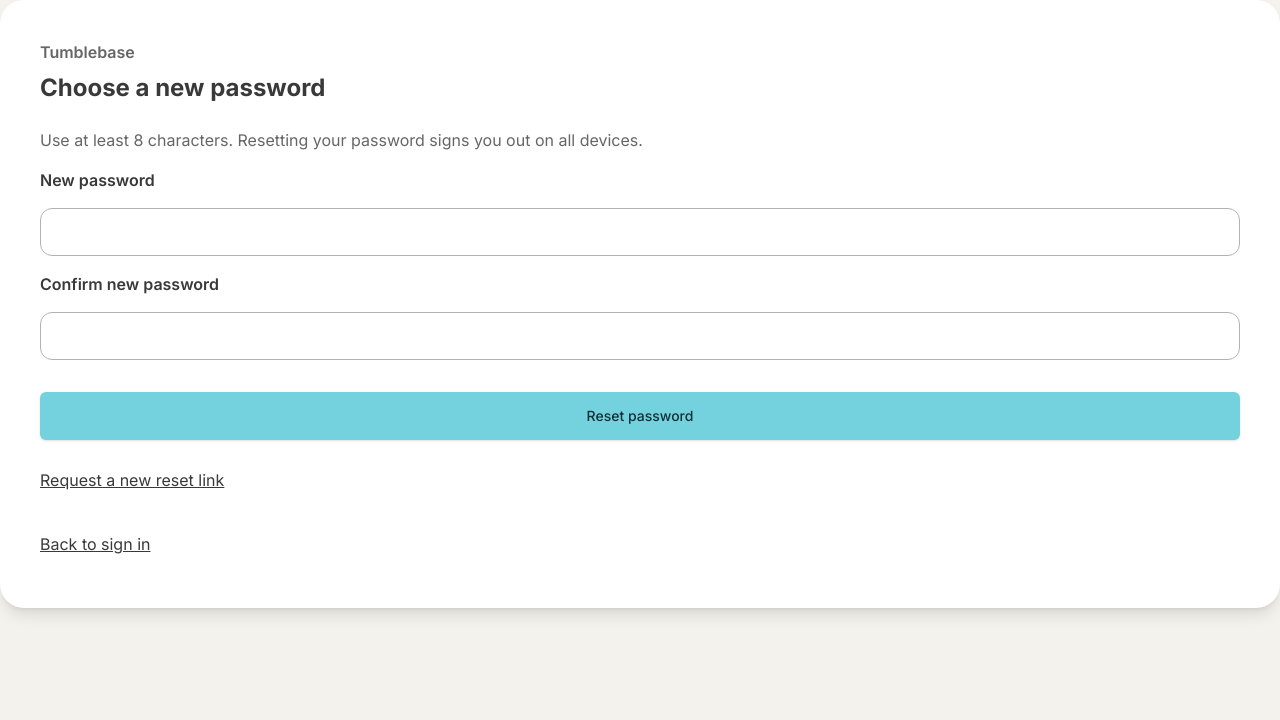
Test: removes the link from the URL, validates matching passwords and clears local credentials on success
The width and height of the screenshot is (1280, 720).
Step 1. Type "Replacement123" into the password field labelled "New password" → (640, 232), box [40,208,1240,256]
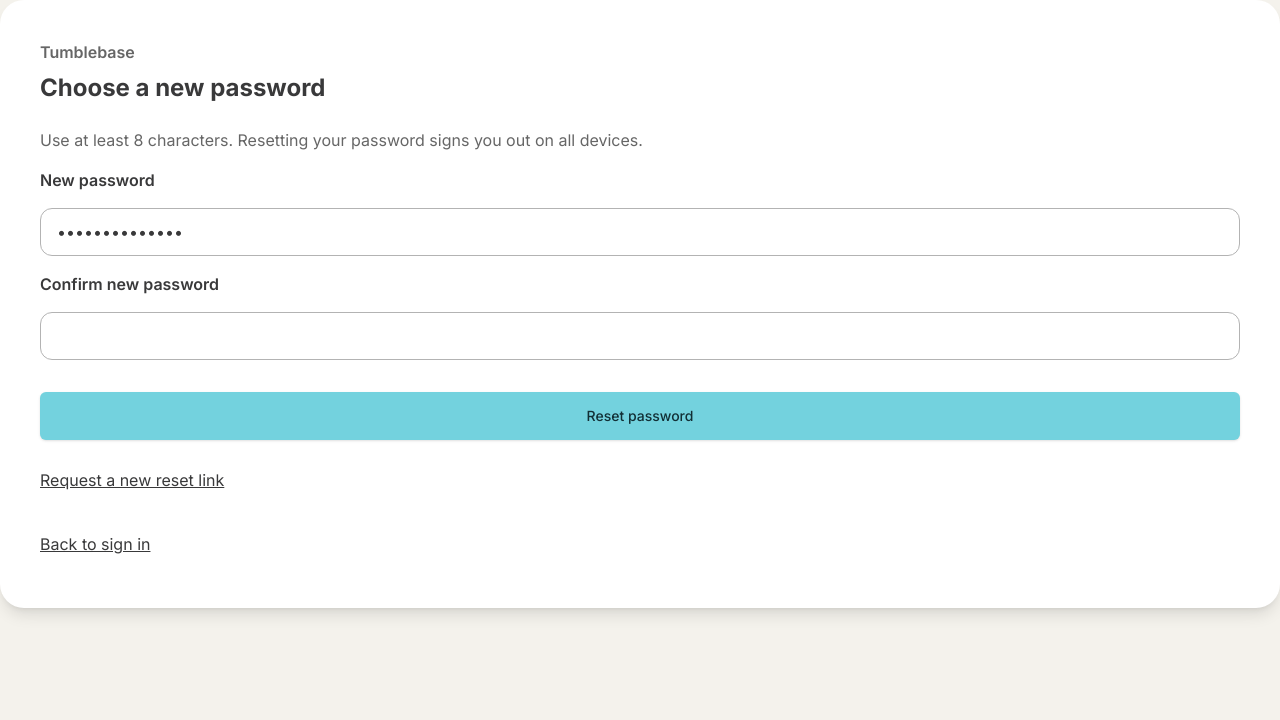
Step 2. Type "Different123" into the password field labelled "Confirm new password" → (640, 336), box [40,312,1240,360]
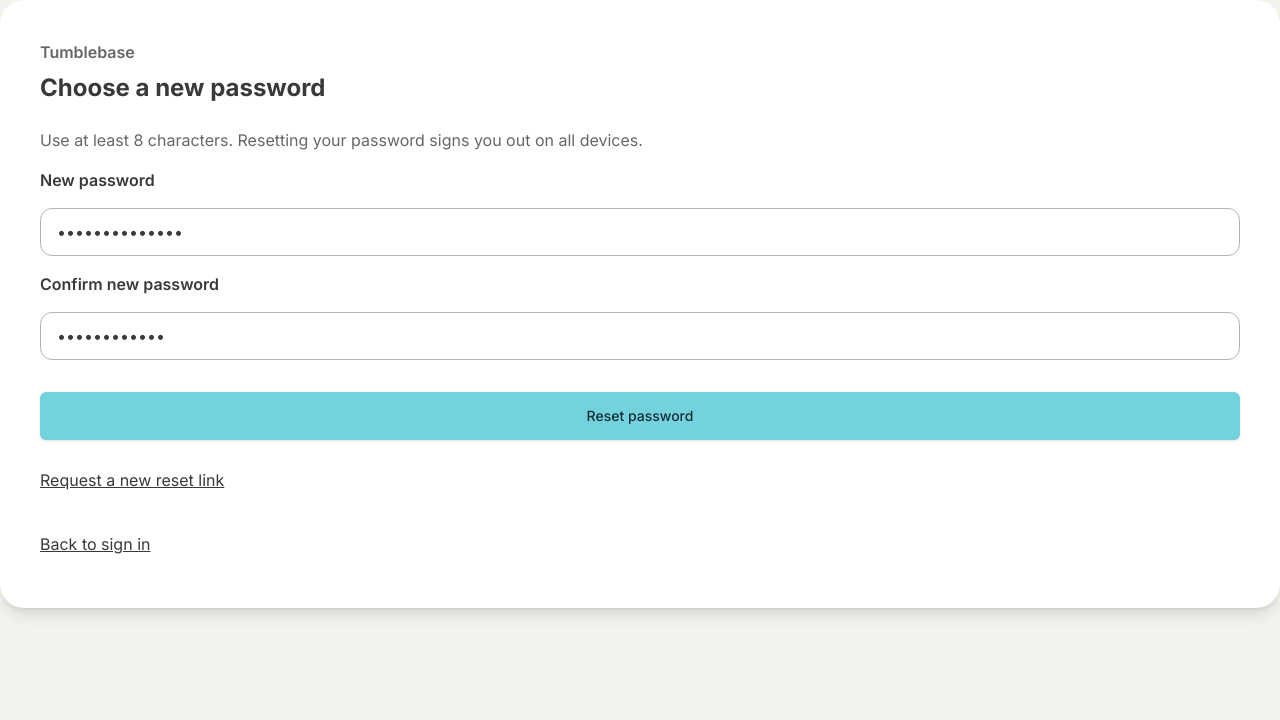
Step 3. Click the button "Reset password" → (640, 416), box [40,392,1240,440]
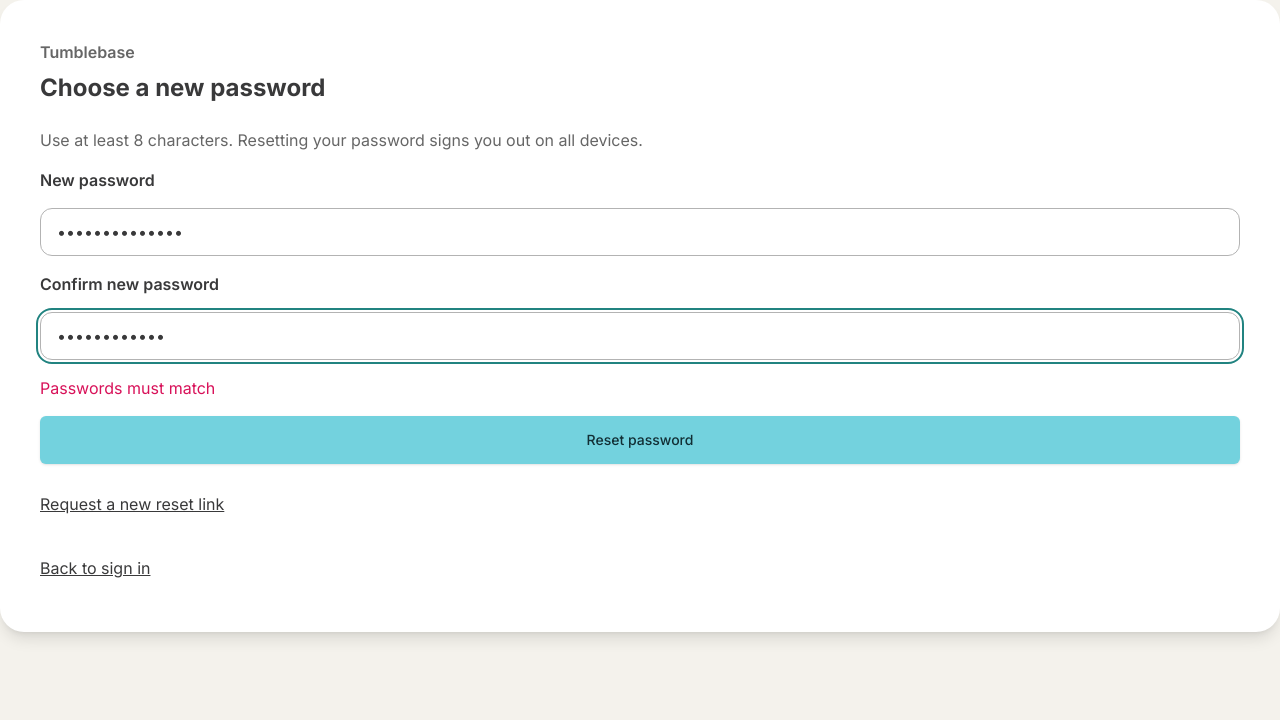
Now the message reads "Passwords must match", box [40,378,215,398]
Step 4. Type "Replacement123" into the password field labelled "Confirm new password" → (640, 336), box [40,312,1240,360]
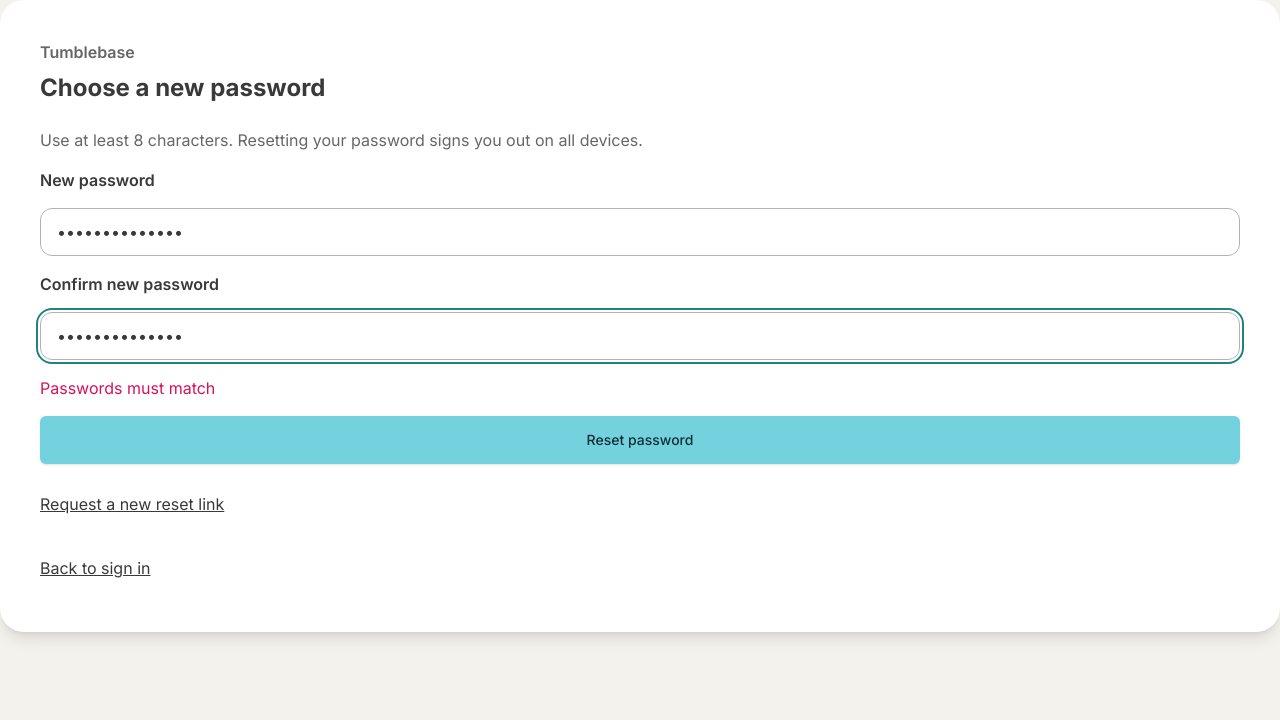
Step 5. Click the button "Reset password" → (640, 440), box [40,416,1240,464]
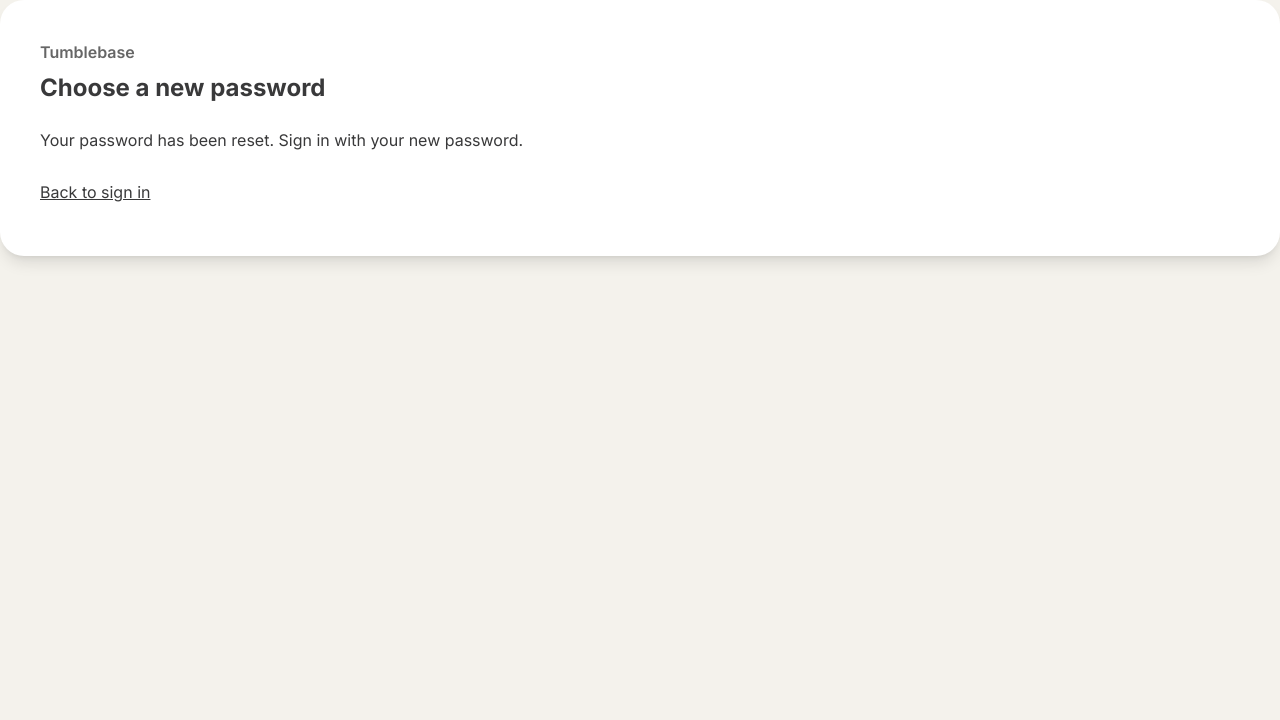
Now the message shows "Your password has been reset", box [40,130,523,150]
